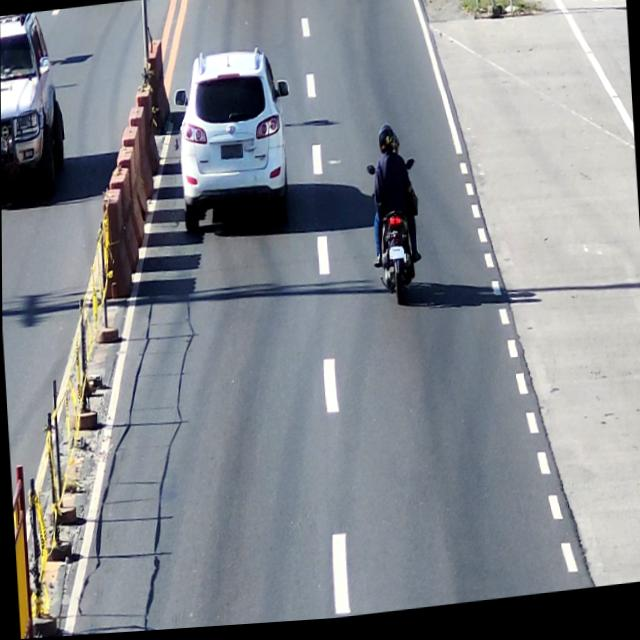Car: (175, 48, 290, 242), (0, 11, 67, 200)
License-Plate: (218, 144, 246, 168), (386, 246, 407, 267), (1, 135, 10, 155)
Motorcycle: (366, 156, 423, 315)
